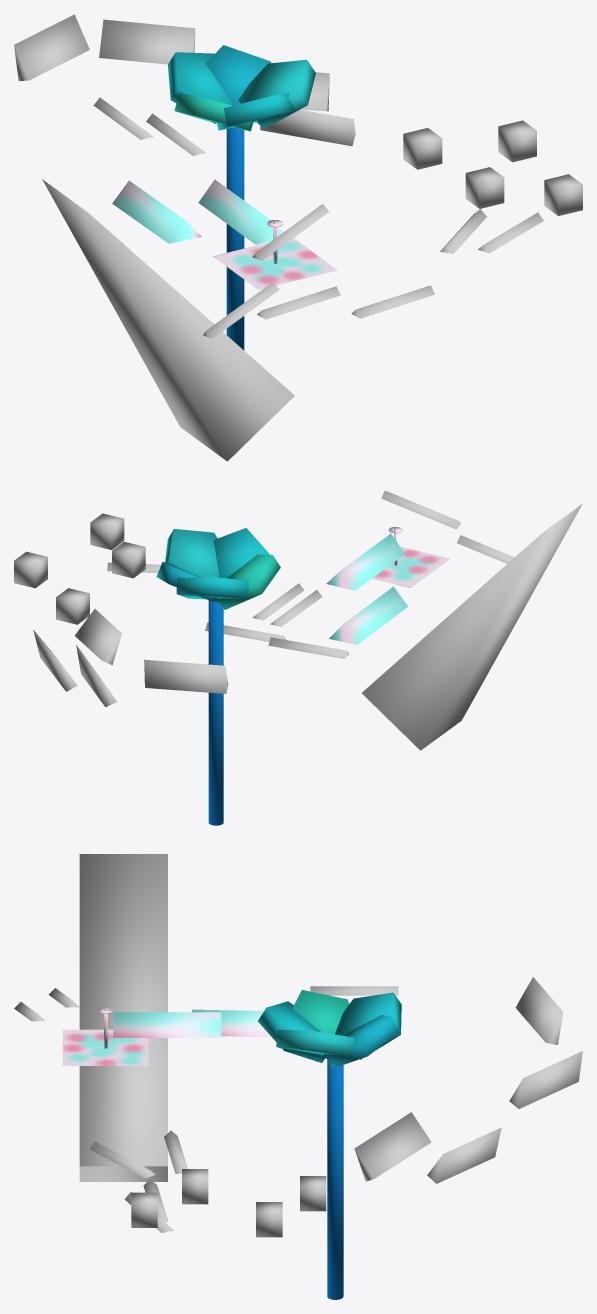
File: KevWorldColorThree.obj
3 renders of one model, top to bottom at view 1: azimuth 30°, elevation 25°; view 2: azimuth 150°, elevation 25°; view 3: azimuth 270°, elevation 25°, orthographic. The views are drawn at different scales.
Visible parts, largest first — view 1: Basic_Ramp.012_Cube.022, Basic_Ramp.003_Cube.009, Baseplane_Plane, Basic_Ramp.002_Cube.003, Cylinder.001, Cylinder.003, Basic_Ramp.001_Cube.025, Basic_Ramp_Cube, Cylinder.002, Basic_Ramp.006_Cube.012, Cylinder.006, Cylinder.004 (+14 smaller); view 2: Basic_Ramp.012_Cube.022, Cylinder.001, Basic_Ramp.002_Cube.003, Cylinder.003, Basic_Ramp.001_Cube.025, Basic_Ramp_Cube, Cylinder.004, Baseplane_Plane, Basic_Ramp.006_Cube.012, Cylinder.005, Cylinder.002, Cube.009_Cube.016 (+12 smaller); view 3: Basic_Ramp.012_Cube.022, Cylinder.001, Baseplane_Plane, Basic_Ramp_Cube, Basic_Ramp.006_Cube.012, Basic_Ramp.003_Cube.009, Basic_Ramp.002_Cube.003, Basic_Ramp.005_Cube.011, Cylinder.002, Cylinder.006, Cylinder.003, Cylinder.005 (+9 smaller).
Part boxes in pixels (x1=…): Basic_Ramp.012_Cube.022: x1=42, y1=179, x2=294, y2=461; Basic_Ramp.003_Cube.009: x1=99, y1=19, x2=195, y2=64; Baseplane_Plane: x1=213, y1=238, x2=337, y2=289; Basic_Ramp.002_Cube.003: x1=14, y1=14, x2=89, y2=81; Cylinder.001: x1=226, y1=127, x2=244, y2=350; Cylinder.003: x1=238, y1=59, x2=315, y2=128; Basic_Ramp.001_Cube.025: x1=112, y1=180, x2=201, y2=243; Basic_Ramp_Cube: x1=198, y1=179, x2=283, y2=244; Cylinder.002: x1=168, y1=52, x2=232, y2=123; Basic_Ramp.006_Cube.012: x1=260, y1=109, x2=355, y2=146; Cylinder.006: x1=205, y1=45, x2=271, y2=105; Cylinder.004: x1=216, y1=93, x2=295, y2=130; Basic_Ramp.012_Cube.022: x1=362, y1=503, x2=582, y2=750; Cylinder.001: x1=208, y1=600, x2=223, y2=825; Basic_Ramp.002_Cube.003: x1=144, y1=659, x2=228, y2=693; Cylinder.003: x1=165, y1=529, x2=219, y2=577; Basic_Ramp.001_Cube.025: x1=329, y1=586, x2=408, y2=644; Basic_Ramp_Cube: x1=326, y1=534, x2=404, y2=590; Cylinder.004: x1=213, y1=528, x2=269, y2=578; Baseplane_Plane: x1=372, y1=546, x2=449, y2=587; Basic_Ramp.006_Cube.012: x1=74, y1=609, x2=121, y2=664; Cylinder.005: x1=218, y1=554, x2=280, y2=609; Cylinder.002: x1=176, y1=577, x2=248, y2=599; Cube.009_Cube.016: x1=90, y1=513, x2=124, y2=549; Basic_Ramp.012_Cube.022: x1=79, y1=854, x2=167, y2=1181; Cylinder.001: x1=327, y1=1060, x2=343, y2=1299; Baseplane_Plane: x1=62, y1=1029, x2=148, y2=1065; Basic_Ramp_Cube: x1=113, y1=1012, x2=221, y2=1037; Basic_Ramp.006_Cube.012: x1=354, y1=1112, x2=431, y2=1181; Basic_Ramp.003_Cube.009: x1=509, y1=1051, x2=582, y2=1108; Basic_Ramp.002_Cube.003: x1=515, y1=977, x2=563, y2=1044; Basic_Ramp.005_Cube.011: x1=427, y1=1127, x2=501, y2=1183; Cylinder.002: x1=335, y1=992, x2=401, y2=1059; Cylinder.006: x1=324, y1=1015, x2=399, y2=1068; Cylinder.003: x1=276, y1=1029, x2=354, y2=1055; Cylinder.005: x1=292, y1=990, x2=349, y2=1061.
Size of the model in its own units: 1402 by 825 by 1360.
Materials: 11 (4 with a texture image).
